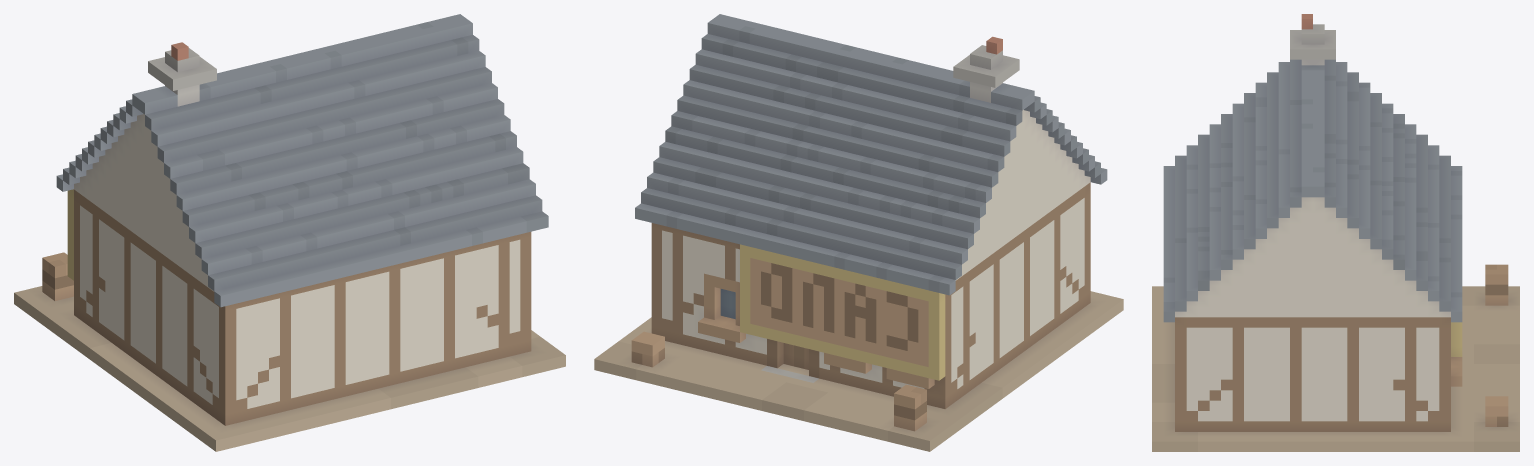
The model's file is candle_foundry.glb.
The picture shows the model from 3 angles, left to right: view 1: azimuth 30°, elevation 25°; view 2: azimuth 150°, elevation 25°; view 3: azimuth 270°, elevation 25°; orthographic projection. The views are drawn at different scales.
Parts seen in each view (by area): view 1: candle_foundry; view 2: candle_foundry; view 3: candle_foundry.
Part boxes in pixels (x1,y1,x2,y2): candle_foundry: (14, 14, 565, 451); candle_foundry: (594, 14, 1123, 451); candle_foundry: (1152, 14, 1519, 451).
Size of the model in its own units: 4 by 3.62 by 4.
